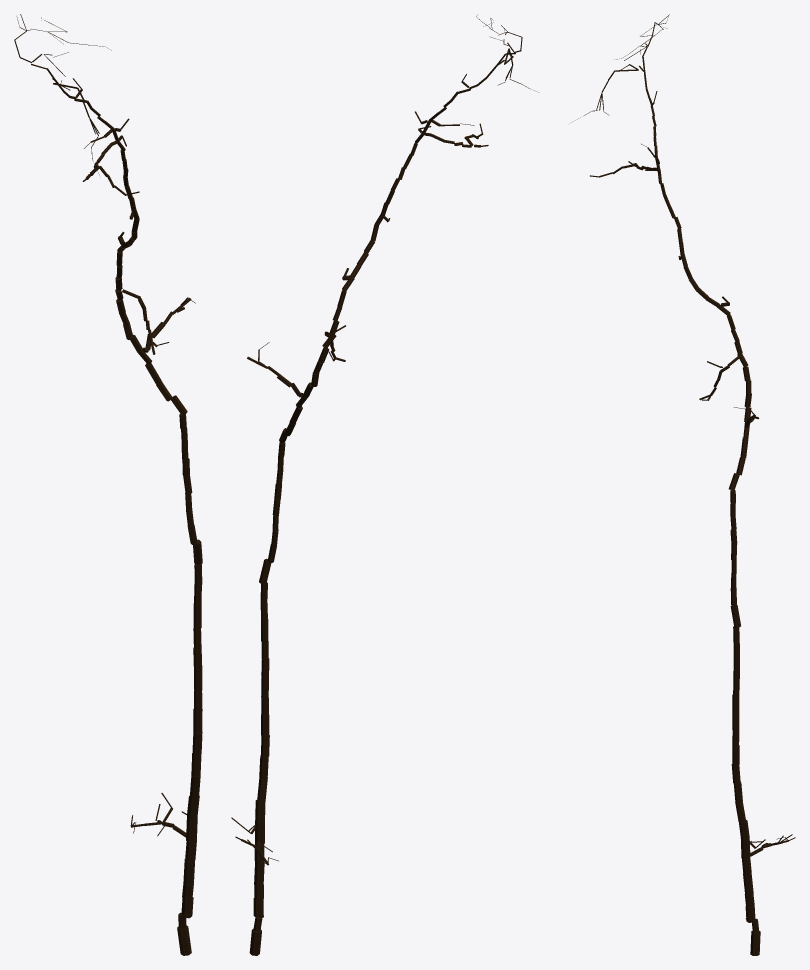
File: tree_537_no_leaf.obj
The picture shows the model from 3 angles, left to right: view 1: azimuth 30°, elevation 25°; view 2: azimuth 150°, elevation 25°; view 3: azimuth 270°, elevation 25°; orthographic projection. The views are drawn at different scales.
Visible parts, largest first — view 1: TrunkAndBranches; view 2: TrunkAndBranches; view 3: TrunkAndBranches.
Boxes of the visible parts, x1,y1,x2,y2 form: TrunkAndBranches: (14, 14, 202, 955); TrunkAndBranches: (231, 15, 538, 955); TrunkAndBranches: (573, 14, 795, 955).
Bounding box in the file's own units: 3 × 11.74 × 2.84.
